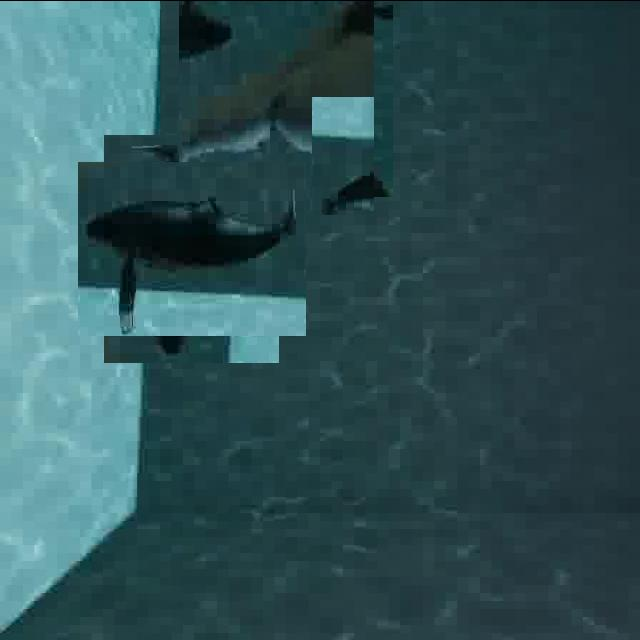Whale: (171, 0, 384, 204), (91, 147, 292, 349)
